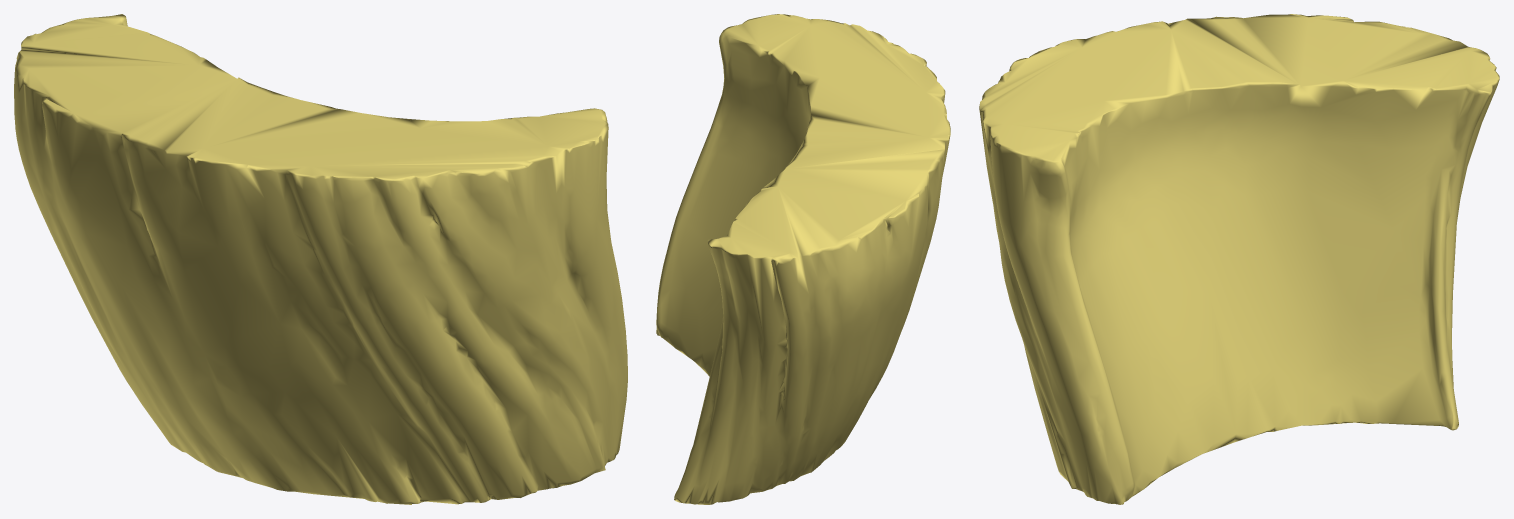
File: base-of-peduncle-r.glb
3 renders of one model, left to right at view 1: azimuth 30°, elevation 25°; view 2: azimuth 150°, elevation 25°; view 3: azimuth 270°, elevation 25°, orthographic. The views are drawn at different scales.
Parts seen in each view (by area): view 1: Base of peduncle.r; view 2: Base of peduncle.r; view 3: Base of peduncle.r.
Part boxes in pixels (bbox=[...]): Base of peduncle.r: bbox=[14, 14, 627, 504]; Base of peduncle.r: bbox=[656, 14, 950, 504]; Base of peduncle.r: bbox=[979, 14, 1499, 504].
Size of the model in its own units: 0.0188 by 0.0163 by 0.0223.
